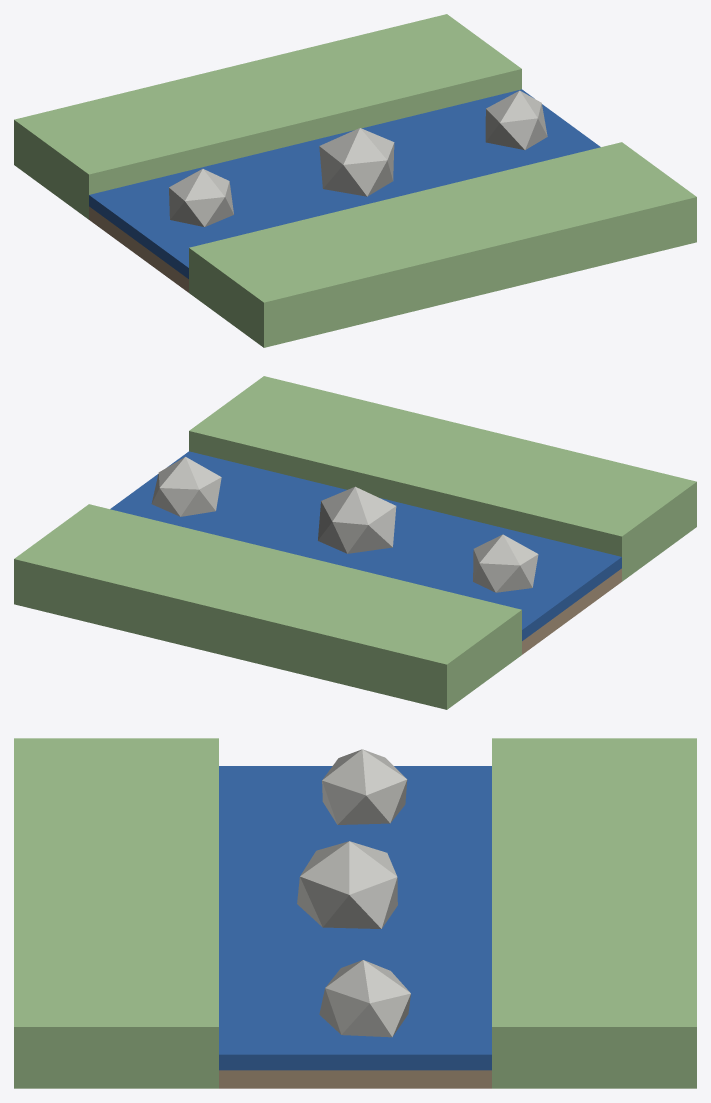
The model's file is river_rocks.glb.
3 renders of one model, top to bottom at view 1: azimuth 30°, elevation 25°; view 2: azimuth 150°, elevation 25°; view 3: azimuth 270°, elevation 25°, orthographic. The views are drawn at different scales.
Visible parts, largest first — view 1: river_rocks_grass_left, river_rocks_grass_right, river_rocks_water, river_rocks, river_rocks_bed; view 2: river_rocks_grass_right, river_rocks_grass_left, river_rocks_water, river_rocks, river_rocks_bed; view 3: river_rocks_grass_left, river_rocks_grass_right, river_rocks_water, river_rocks, river_rocks_bed.
Part boxes in pixels (x1,y1,x2,y2): river_rocks_grass_left: [189, 142, 696, 347]; river_rocks_grass_right: [14, 14, 521, 219]; river_rocks_water: [89, 89, 600, 278]; river_rocks: [169, 90, 547, 226]; river_rocks_bed: [89, 206, 188, 292]; river_rocks_grass_right: [14, 504, 521, 709]; river_rocks_grass_left: [189, 376, 696, 581]; river_rocks_water: [110, 451, 621, 640]; river_rocks: [151, 457, 538, 592]; river_rocks_bed: [522, 568, 621, 654]; river_rocks_grass_left: [14, 738, 218, 1088]; river_rocks_grass_right: [492, 738, 696, 1088]; river_rocks_water: [219, 766, 491, 1070]; river_rocks: [297, 749, 410, 1037]; river_rocks_bed: [219, 1070, 491, 1088].
Bounding box in the file's own units: 2 × 0.3389 × 2.
